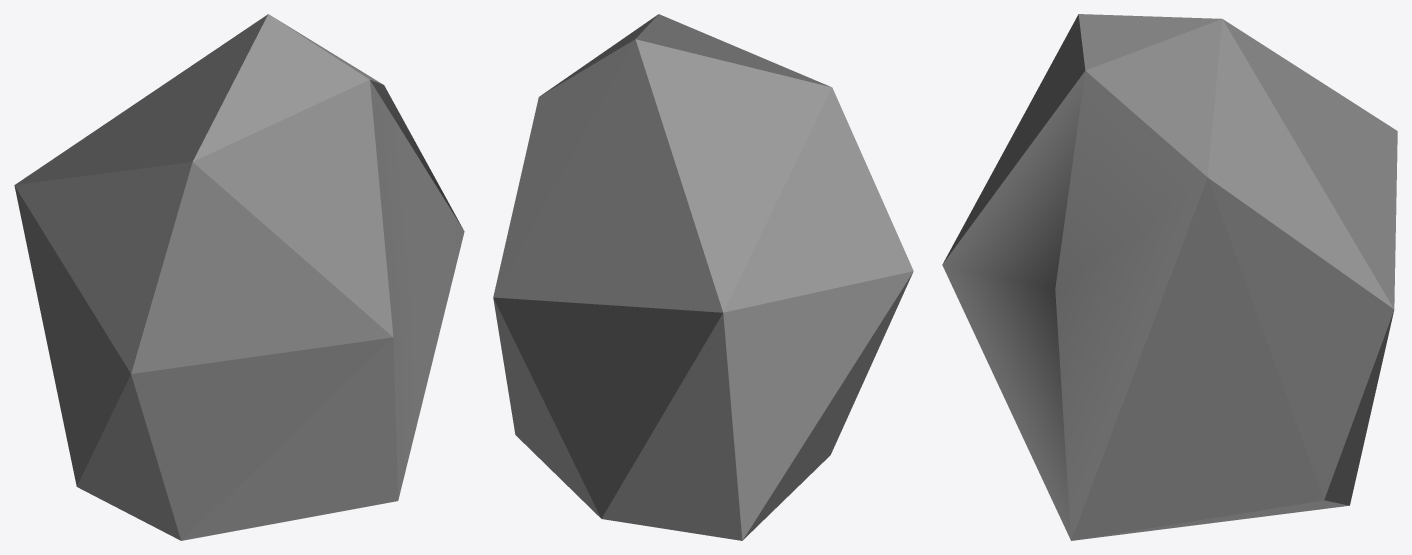
The model's file is SM_Gen_Env_Bush_Part_06.glb.
3 renders of one model, left to right at view 1: azimuth 30°, elevation 25°; view 2: azimuth 150°, elevation 25°; view 3: azimuth 270°, elevation 25°, orthographic. The views are drawn at different scales.
Visible parts, largest first — view 1: SM_Gen_Env_Bush_Part_06; view 2: SM_Gen_Env_Bush_Part_06; view 3: SM_Gen_Env_Bush_Part_06.
Boxes of the visible parts, x1=… form: SM_Gen_Env_Bush_Part_06: x1=14, y1=14, x2=464, y2=540; SM_Gen_Env_Bush_Part_06: x1=493, y1=14, x2=913, y2=540; SM_Gen_Env_Bush_Part_06: x1=942, y1=14, x2=1397, y2=540.
Bounding box in the file's own units: 0.7523 × 0.9967 × 0.8146.
Materials: 1 (1 with a texture image).
